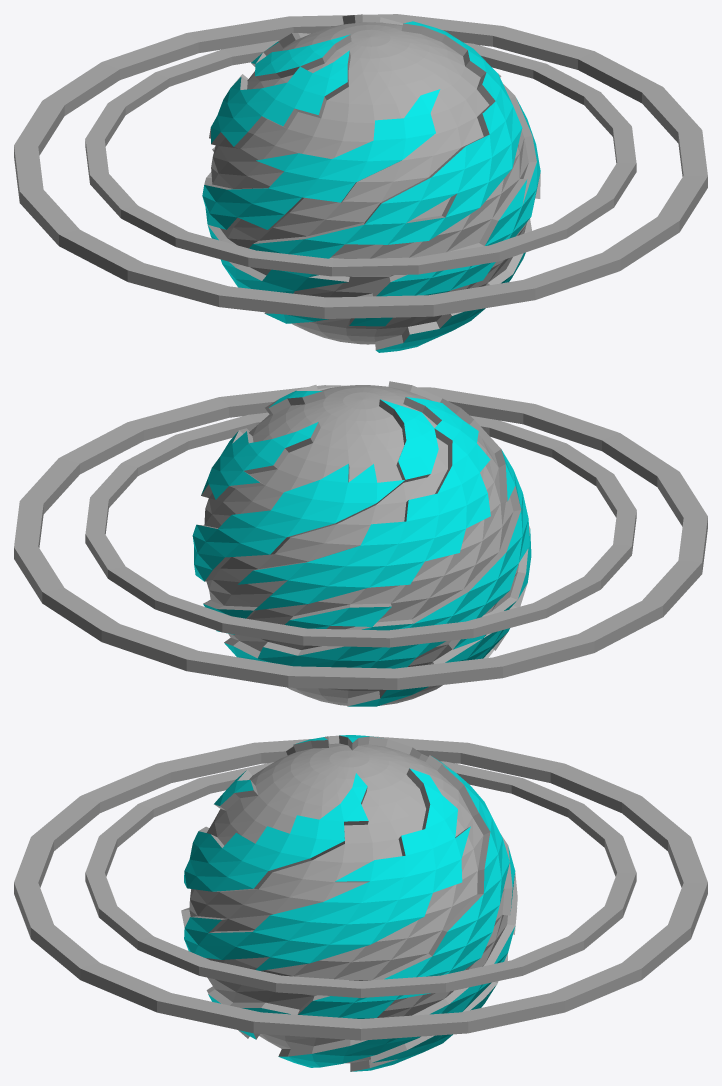
Rendered from planet4.fbx.
The picture shows the model from 3 angles, top to bottom: view 1: azimuth 30°, elevation 25°; view 2: azimuth 150°, elevation 25°; view 3: azimuth 270°, elevation 25°; orthographic projection.
Visible parts, largest first — view 1: pCylinder3; view 2: pCylinder3; view 3: pCylinder3.
Boxes of the visible parts, x1,y1,x2,y2 form: pCylinder3: (14,14,707,352); pCylinder3: (14,381,707,706); pCylinder3: (14,735,707,1071).
Bounding box in the file's own units: 8.44 × 3.98 × 8.44.
